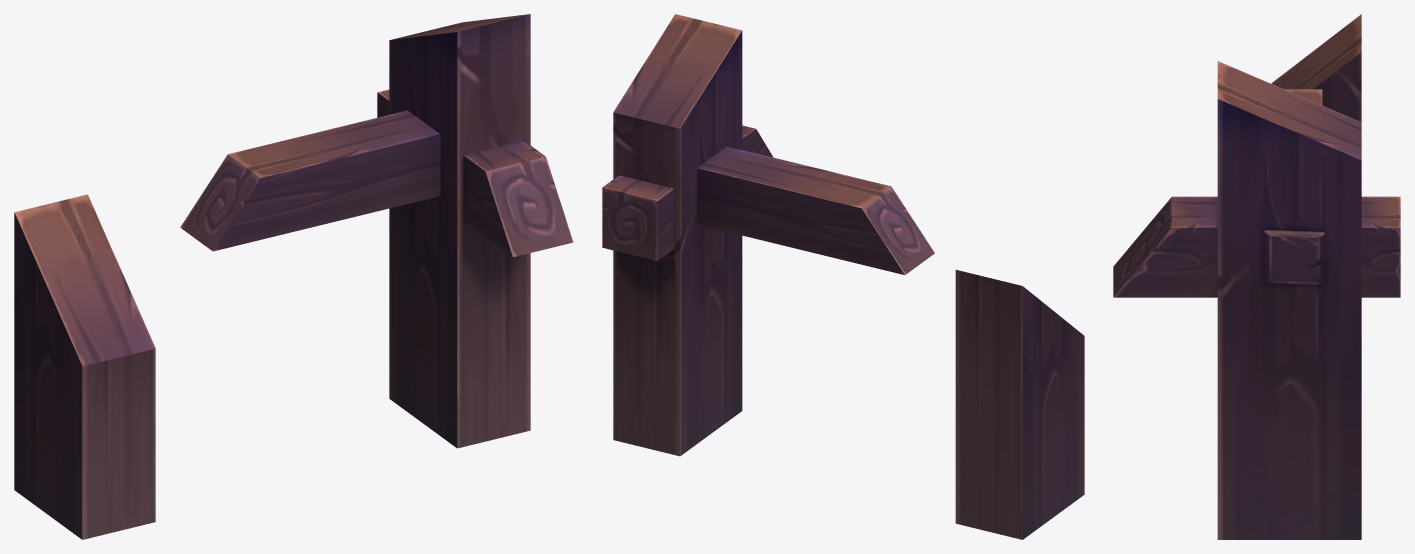
Rendered from scenes_town_climb01.FBX.
The picture shows the model from 3 angles, left to right: view 1: azimuth 30°, elevation 25°; view 2: azimuth 150°, elevation 25°; view 3: azimuth 270°, elevation 25°; orthographic projection. The views are drawn at different scales.
Parts seen in each view (by area): view 1: scenes_town_climb01; view 2: scenes_town_climb01; view 3: scenes_town_climb01.
Boxes of the visible parts, x1,y1,x2,y2 form: scenes_town_climb01: [14, 14, 573, 539]; scenes_town_climb01: [602, 14, 1084, 539]; scenes_town_climb01: [1113, 14, 1400, 539].
Bounding box in the file's own units: 409 × 363 × 214.
